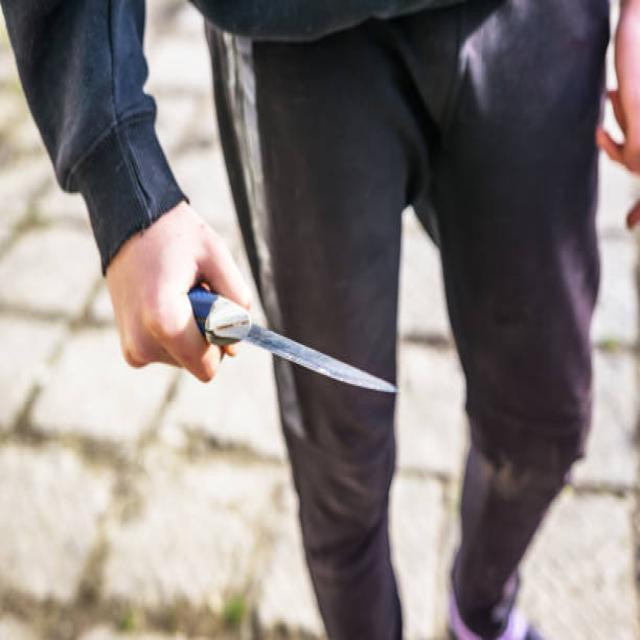faca: (110, 216, 400, 408)
